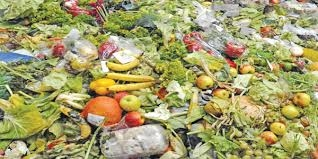kitchen_waste: (1, 91, 53, 142), (182, 29, 237, 70), (100, 7, 155, 43), (80, 93, 123, 133), (194, 125, 241, 156), (27, 1, 77, 28), (208, 35, 246, 59), (104, 52, 147, 71), (103, 69, 156, 84), (104, 81, 158, 95), (118, 93, 145, 112), (122, 109, 148, 127), (290, 90, 314, 108), (195, 74, 219, 92), (268, 119, 288, 137), (258, 129, 279, 146), (279, 104, 300, 120), (237, 60, 258, 76), (211, 87, 230, 101), (288, 43, 305, 57)
plastic: (189, 1, 225, 31)
